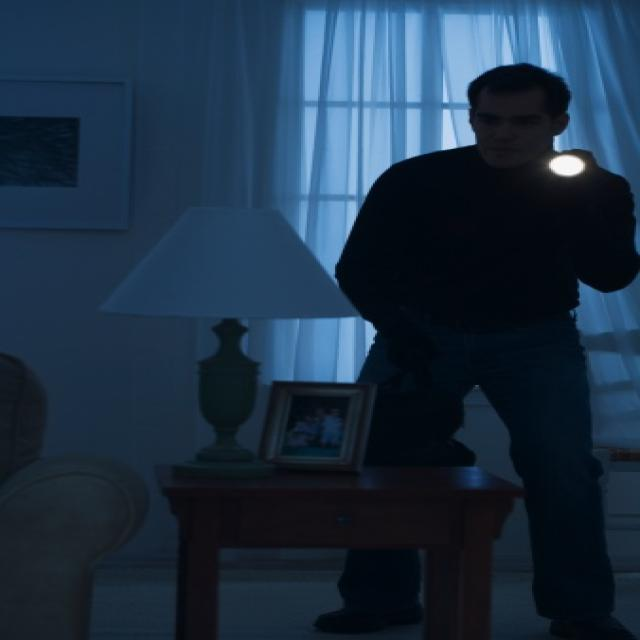People: (330, 49, 633, 640)
Table: (165, 445, 542, 640)
